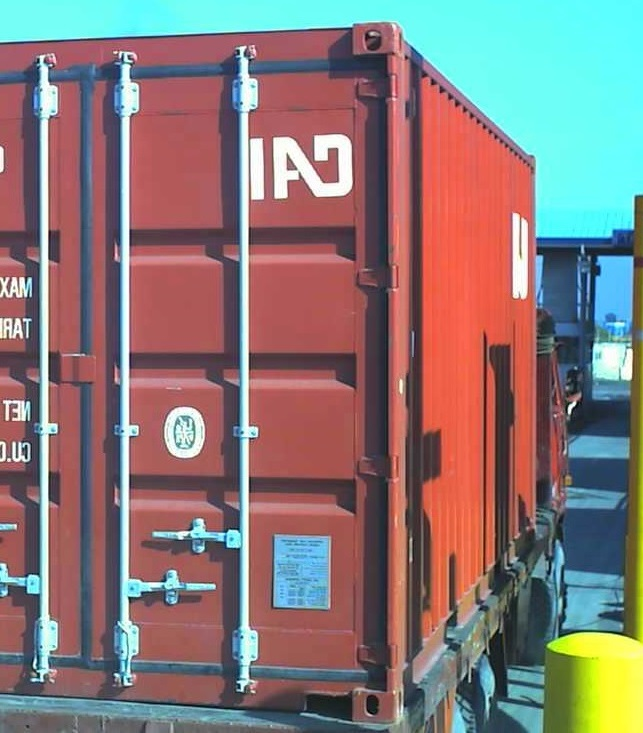container_door: (7, 20, 403, 700)
